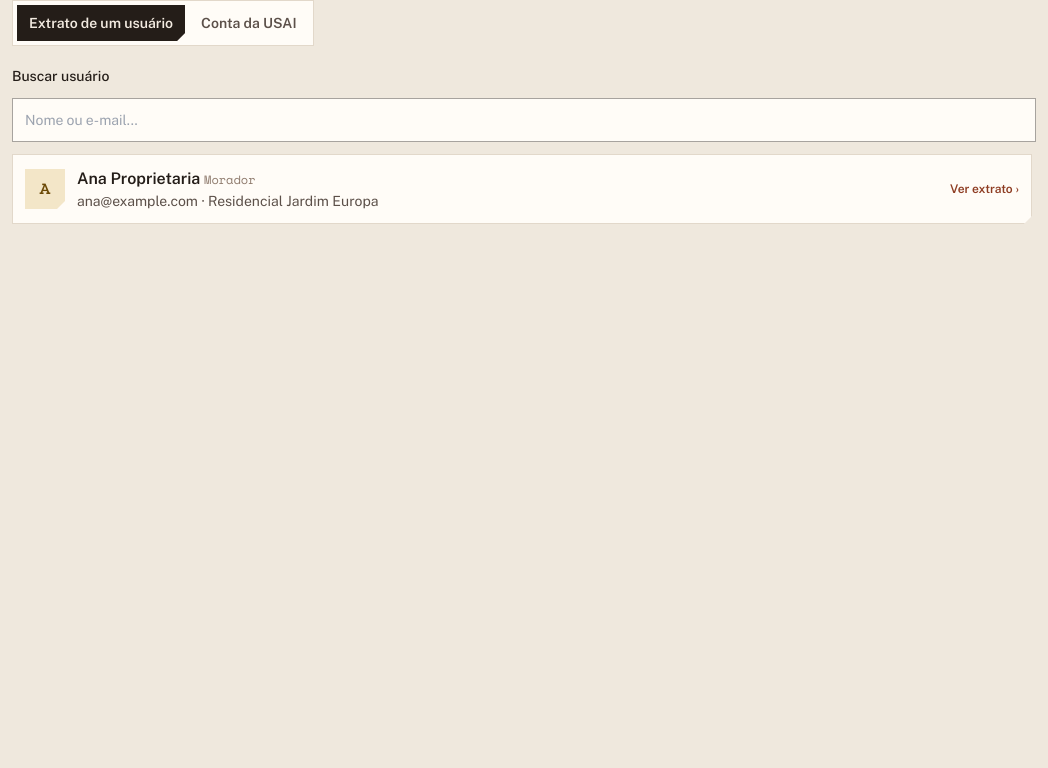
AbaExtratos — extrato de qualquer usuário › o extrato do terceiro usa a linguagem "dele" (não "seu")
The image size is (1048, 768).
Click the button "Ana Proprietaria" at (45, 189), box [12,154,1032,224]
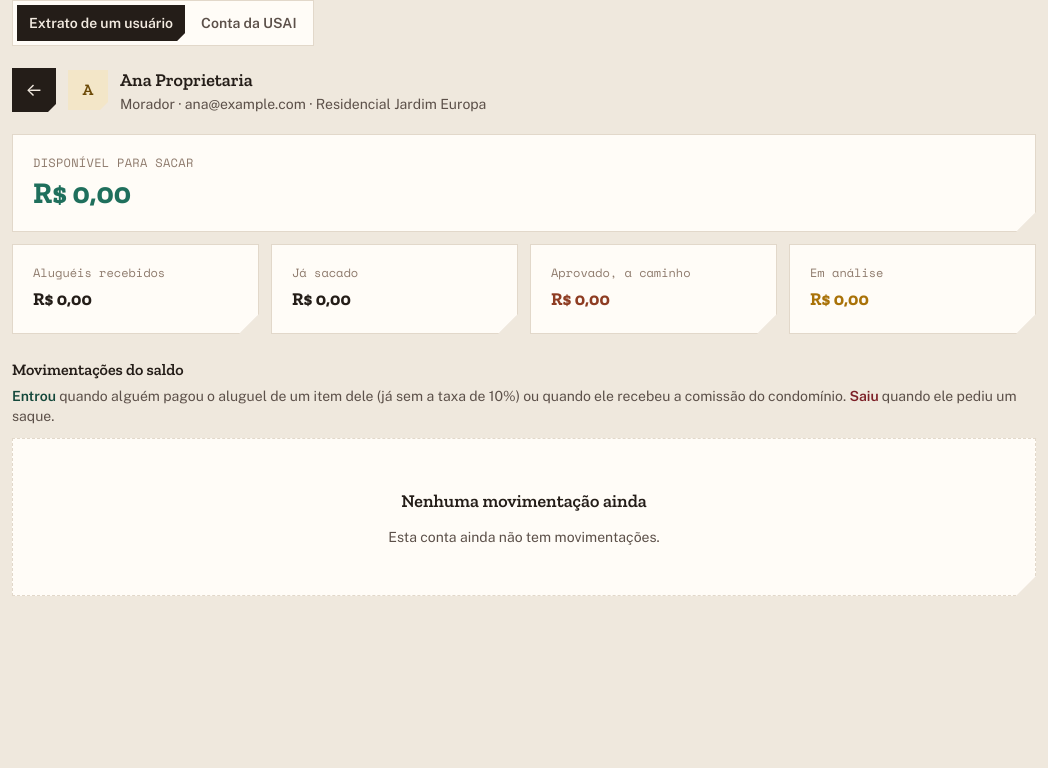
Expected: the heading "Movimentações do saldo" is shown, [12,360,184,379]
